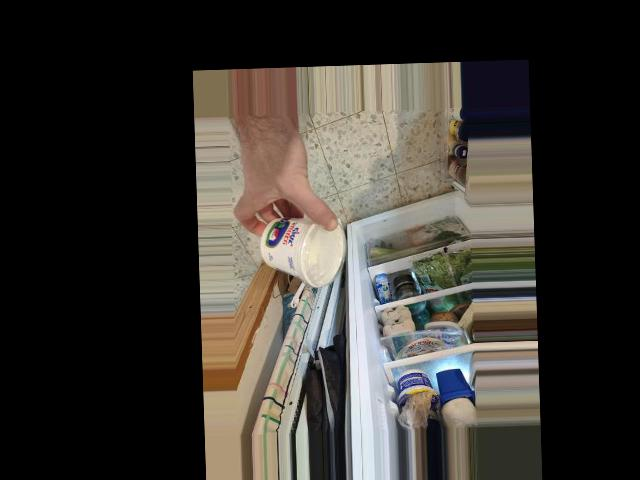cotage: (259, 208, 332, 294)
